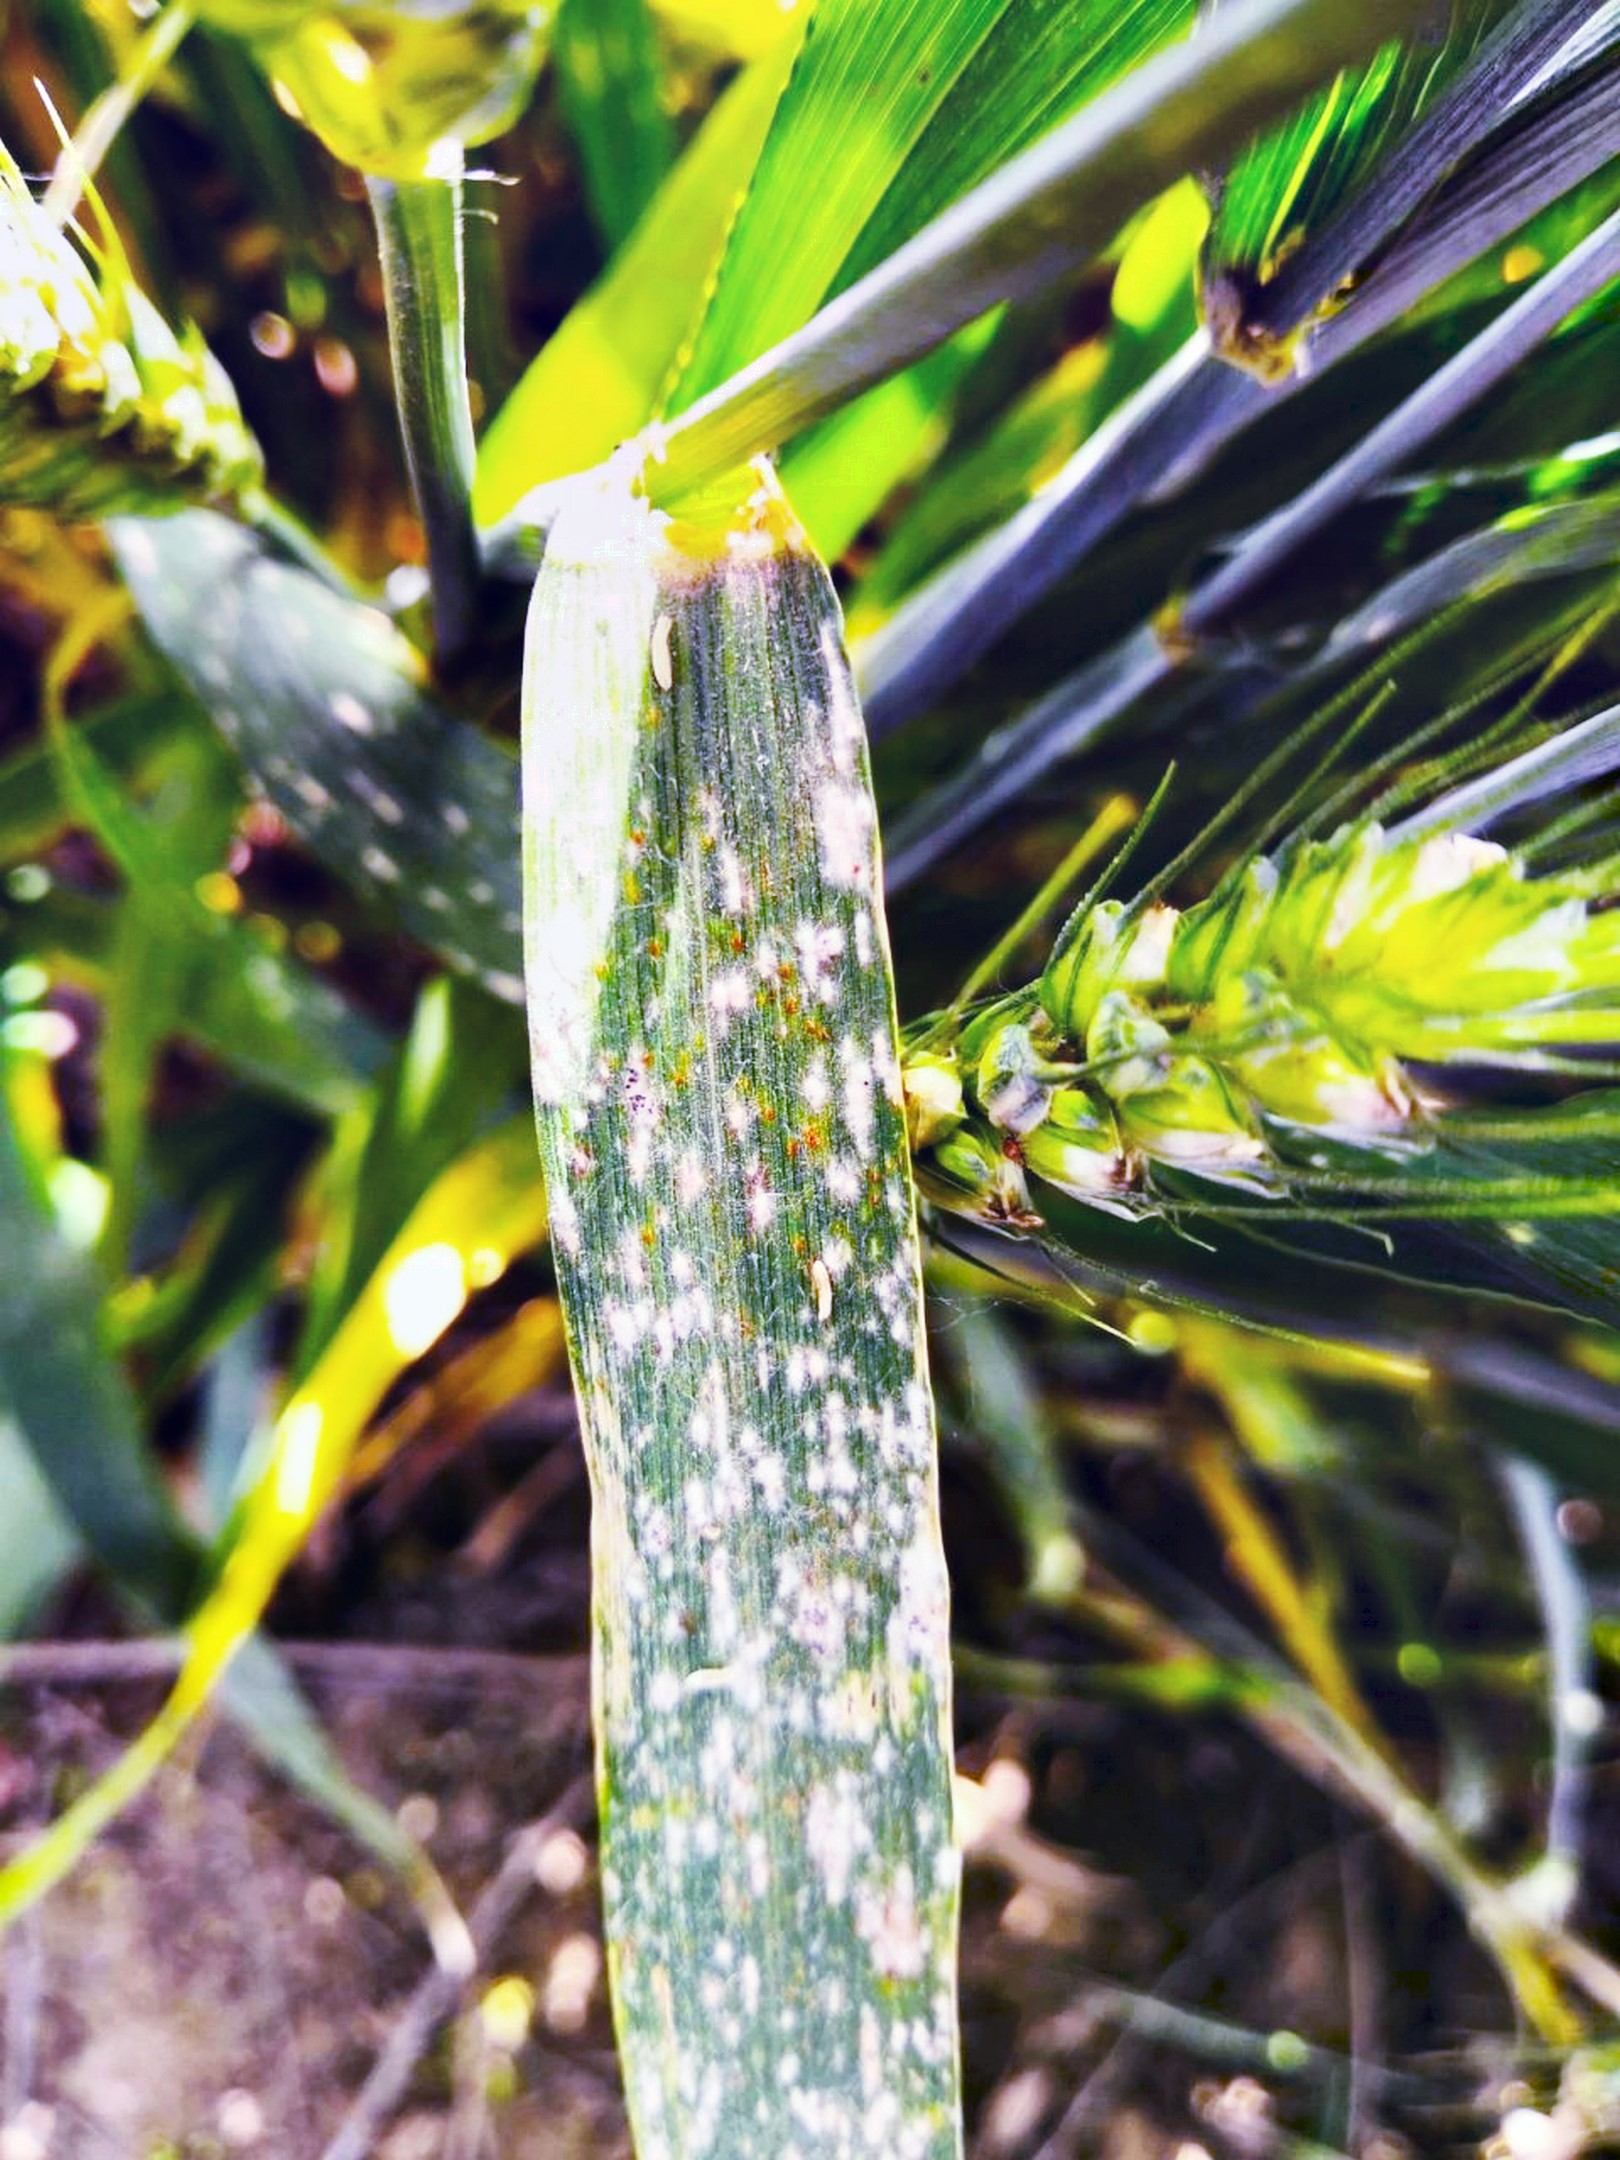Powdery Mildew: (538, 833, 1031, 2075)
